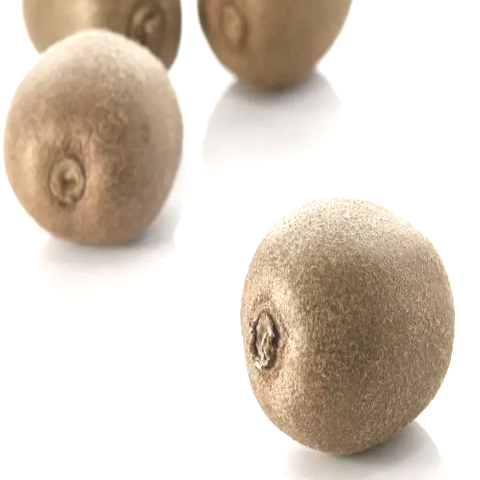kiwi: (220, 177, 475, 470), (0, 27, 209, 265)
